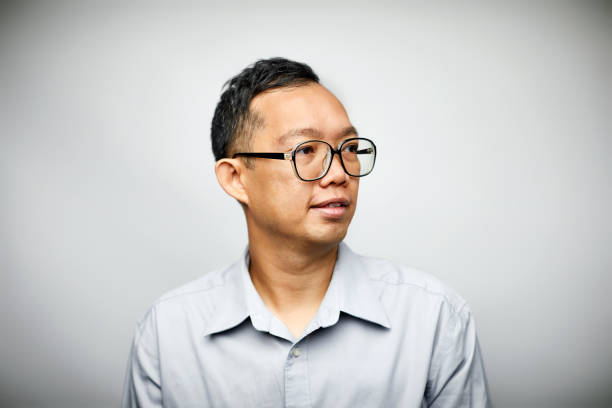person: (207, 57, 377, 255)
